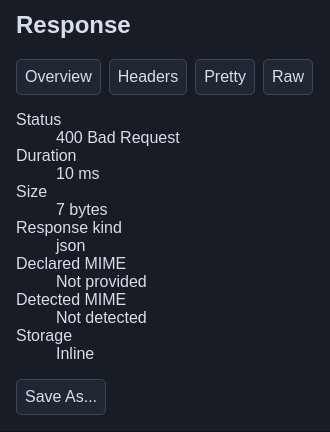
it: shows 4xx as a response and safely renders JSON
Expected: the text "400 Bad Request" is shown, [56,129,180,146]
Click the button "Pretty": (225, 77) [195,59,255,95]
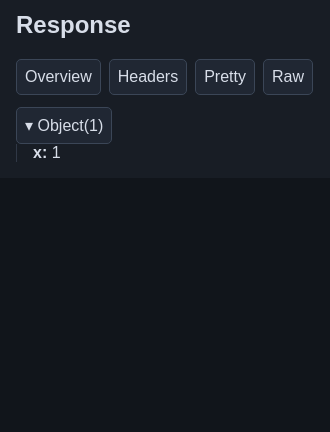
Result: the text "1" is shown at [52,144,61,161]
